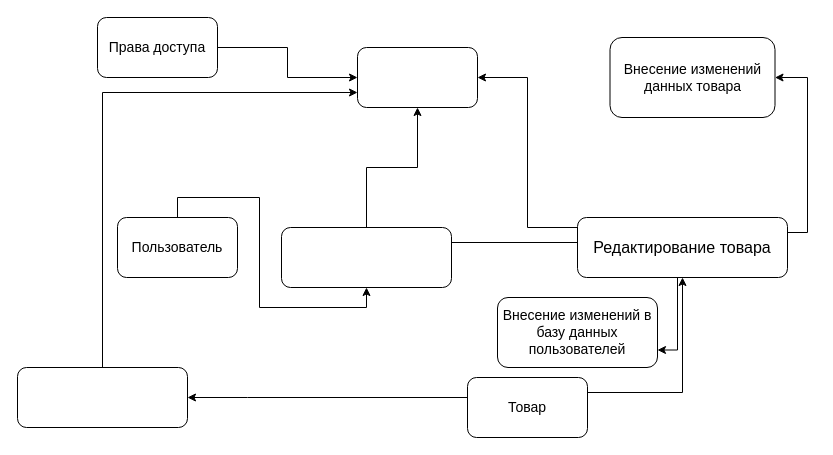
Some shapes in this 833 by 455 pixel diagram are drawn without their labels. The shapes that lost their labels are listed below. From the top down, each one's centre as x and y in pixels, then its label:
[417,77]: Профиль пользователя
[366,257]: Администрирование
[102,397]: Добавление товара
